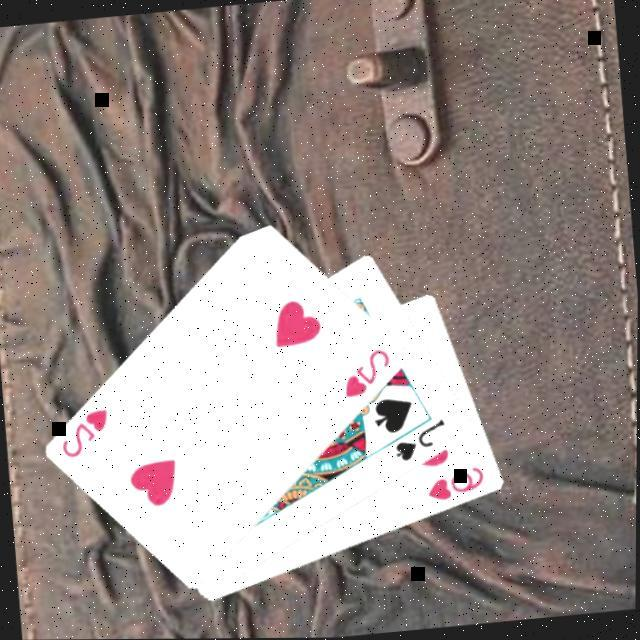2H: (55, 406, 115, 463), (338, 347, 396, 404)
6H: (422, 465, 489, 508)
JS: (390, 417, 452, 467)
